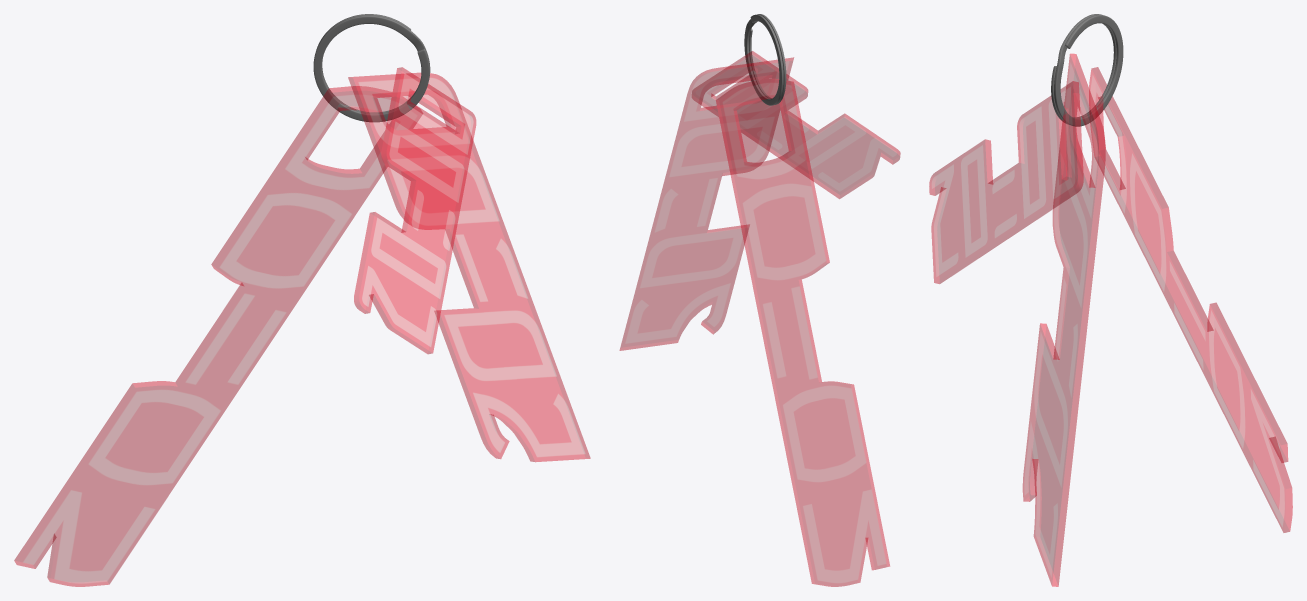
3 renders of one model, left to right at view 1: azimuth 30°, elevation 25°; view 2: azimuth 150°, elevation 25°; view 3: azimuth 270°, elevation 25°, orthographic. The views are drawn at different scales.
Parts seen in each view (by area): view 1: Wide.001, Italic.001, Condensed.001, Circle.001; view 2: Wide.001, Italic.001, Condensed.001, Circle.001; view 3: Italic.001, Wide.001, Condensed.001, Circle.001.
Part boxes in pixels (x1,y1,x2,y2): Wide.001: (14, 86, 422, 586); Italic.001: (348, 73, 590, 461); Condensed.001: (354, 67, 475, 353); Circle.001: (313, 14, 430, 122); Wide.001: (716, 79, 889, 586); Italic.001: (619, 57, 793, 350); Condensed.001: (692, 51, 900, 198); Circle.001: (744, 14, 786, 105); Italic.001: (1023, 54, 1105, 586); Wide.001: (1089, 67, 1292, 532); Condensed.001: (929, 81, 1083, 283); Circle.001: (1051, 14, 1123, 126).
Bounding box in the file's own units: 0.4665 × 0.5872 × 0.3263.
Materials: 4 (3 with a texture image).
